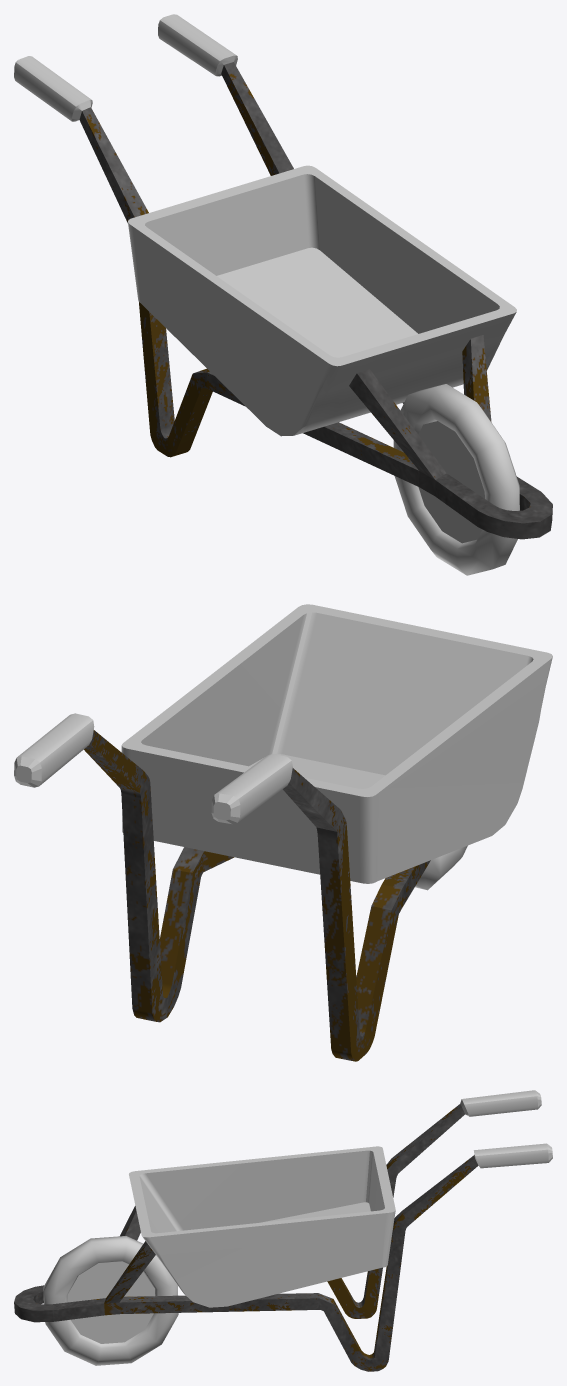
The model's file is m_wheelbarrow.fbx.
The picture shows the model from 3 angles, top to bottom: view 1: azimuth 30°, elevation 25°; view 2: azimuth 150°, elevation 25°; view 3: azimuth 270°, elevation 25°; orthographic projection. The views are drawn at different scales.
Parts seen in each view (by area): view 1: pCube347; view 2: pCube347; view 3: pCube347.
Part boxes in pixels (bbox=[...]): pCube347: bbox=[14, 14, 552, 575]; pCube347: bbox=[14, 604, 552, 1061]; pCube347: bbox=[14, 1090, 552, 1371].
Bounding box in the file's own units: 250 × 337 × 731.
